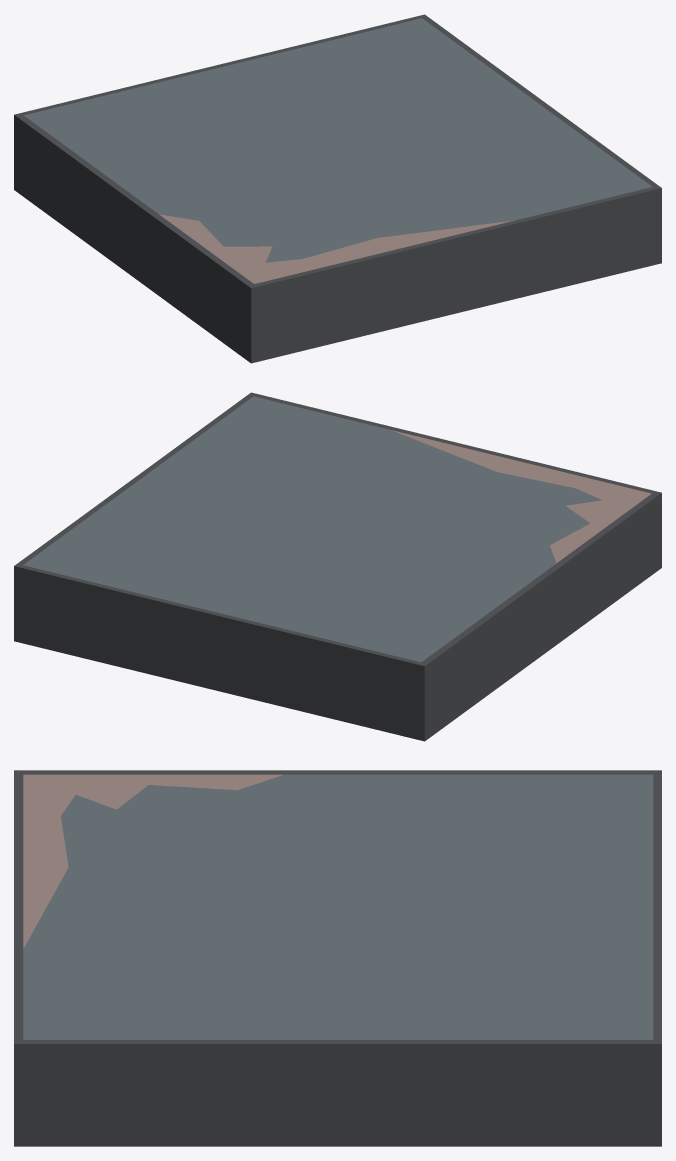
File: g_t_GarageFloorRusty2.fbx
3 renders of one model, top to bottom at view 1: azimuth 30°, elevation 25°; view 2: azimuth 150°, elevation 25°; view 3: azimuth 270°, elevation 25°, orthographic. The views are drawn at different scales.
Parts seen in each view (by area): view 1: g_t_GarageFloorr2; view 2: g_t_GarageFloorr2; view 3: g_t_GarageFloorr2.
Boxes of the visible parts, x1=… form: g_t_GarageFloorr2: x1=14, y1=14, x2=661, y2=363; g_t_GarageFloorr2: x1=14, y1=392, x2=661, y2=741; g_t_GarageFloorr2: x1=14, y1=770, x2=661, y2=1146.
Bounding box in the file's own units: 1 × 0.175 × 1.
